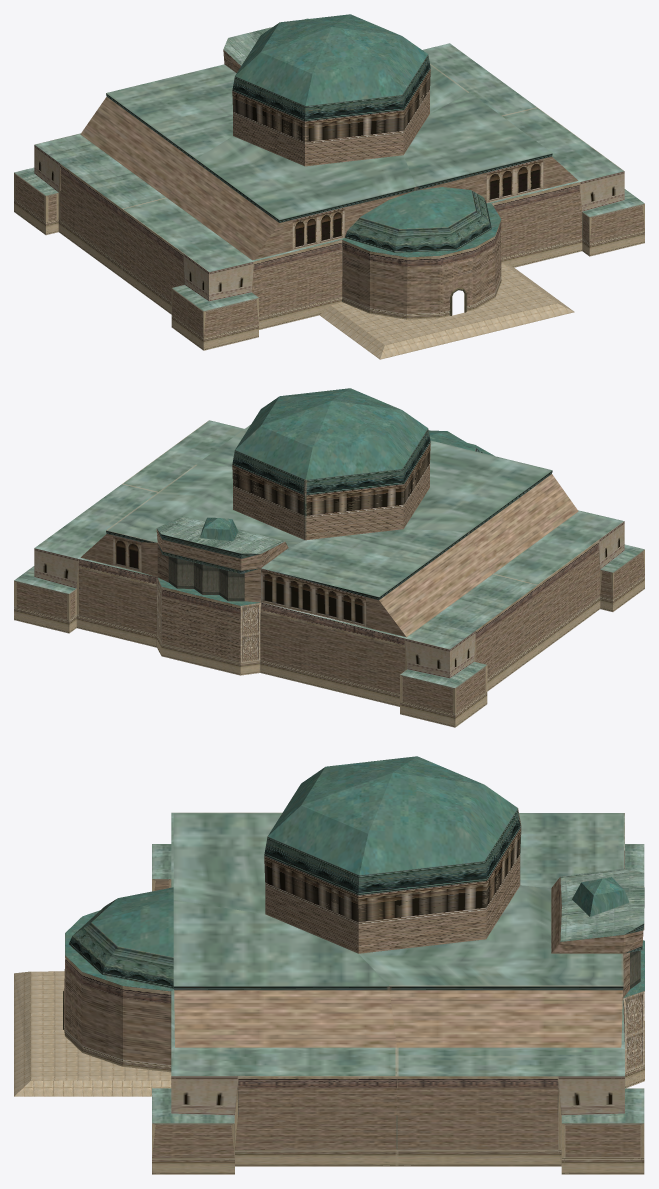
Rendered from mun_nboo_hotel_s01_r0_mesh_l2.fbx.
3 renders of one model, top to bottom at view 1: azimuth 30°, elevation 25°; view 2: azimuth 150°, elevation 25°; view 3: azimuth 270°, elevation 25°, orthographic. The views are drawn at different scales.
Parts seen in each view (by area): view 1: mesh_node; view 2: mesh_node; view 3: mesh_node.
Boxes of the visible parts, x1,y1,x2,y2 form: mesh_node: [14, 14, 644, 359]; mesh_node: [14, 388, 644, 727]; mesh_node: [14, 756, 644, 1174].
Bounding box in the file's own units: 59.56 × 26.07 × 56.85.
